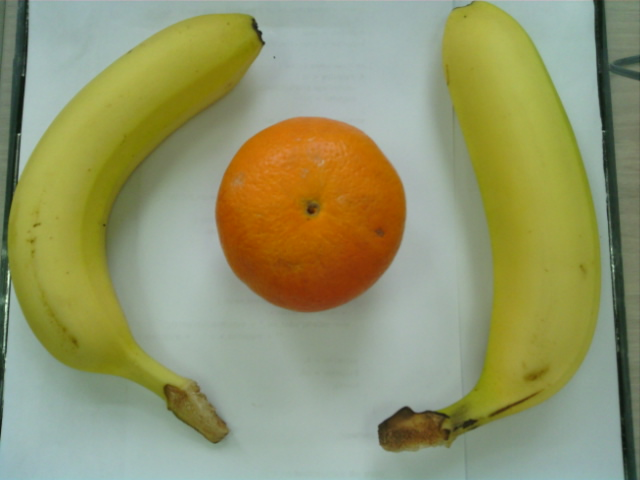normal_banana: (6, 15, 264, 403), (438, 7, 604, 452)
normal_orange: (217, 117, 408, 313)
